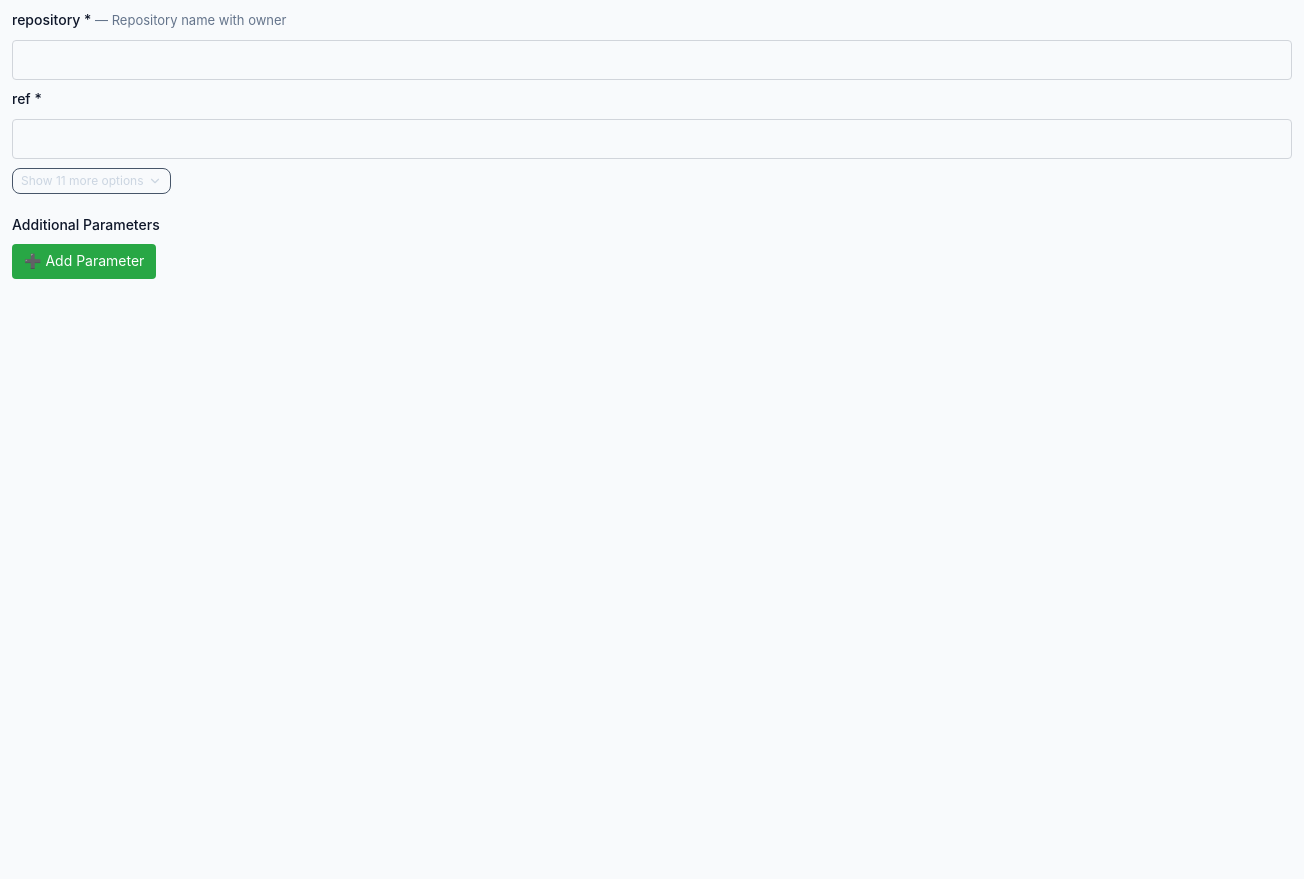
StepWithFields progressive disclosure › reveals the optional inputs when the disclosure is clicked
The image size is (1304, 879).
What coordinates should you click on to do the following:
click the button "Show 11 more options"
I would click on:
 (91, 181)
Its box is [12,168,170,194].
(page scrolled)
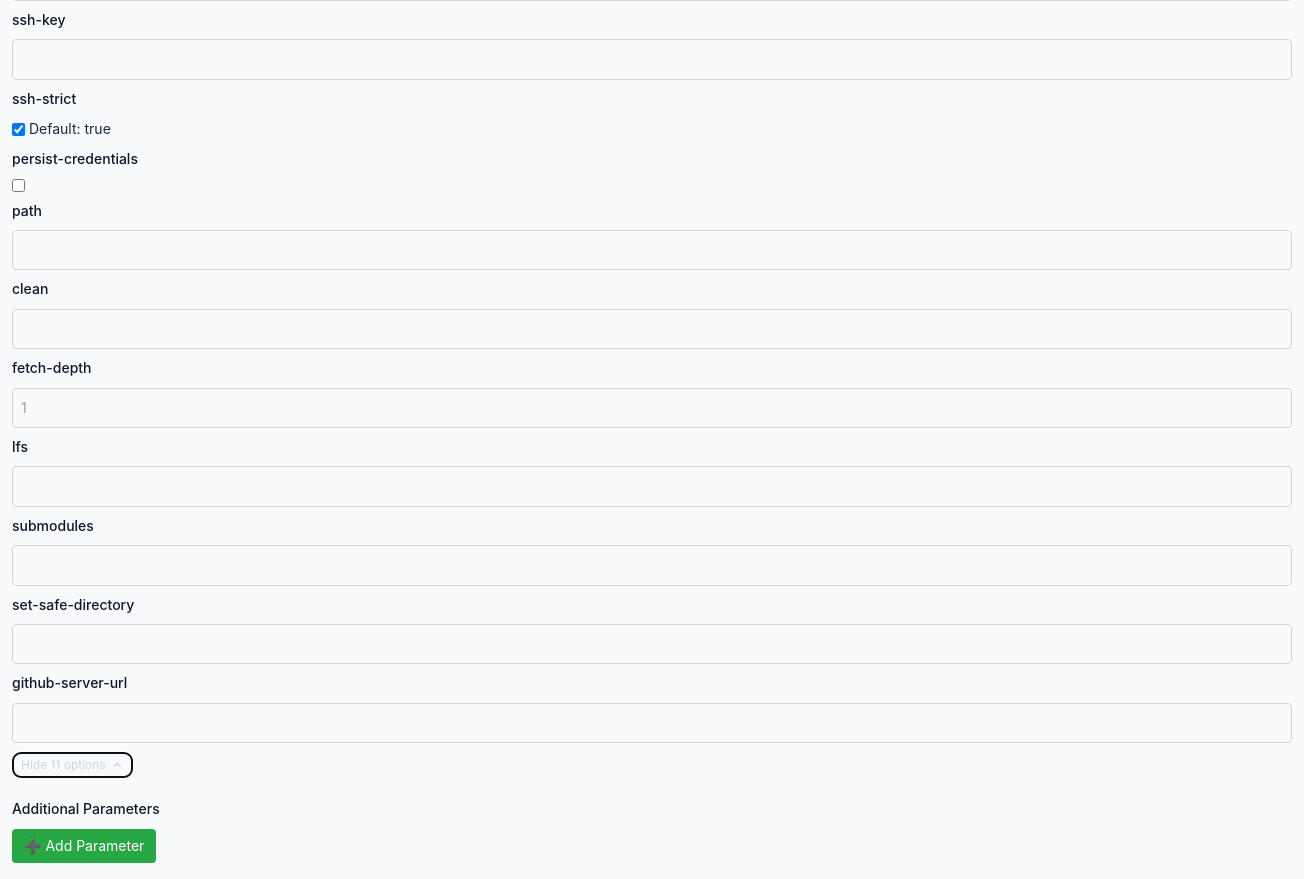
expect the button "Hide 11 options" is expanded: met, box [12,752,133,778]
expect the button "Hide 11 options" is shown: met, box [12,752,133,778]
expect the field labelled "github-server-url" is shown: met, box [12,703,1292,743]
